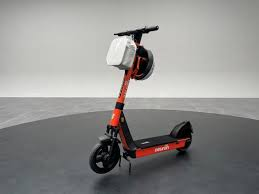kick_board: (89, 25, 192, 174)
kick_handler: (114, 26, 160, 43)
kick_neck: (108, 46, 140, 124)
kick_wheel: (90, 140, 120, 173), (174, 126, 192, 150)
